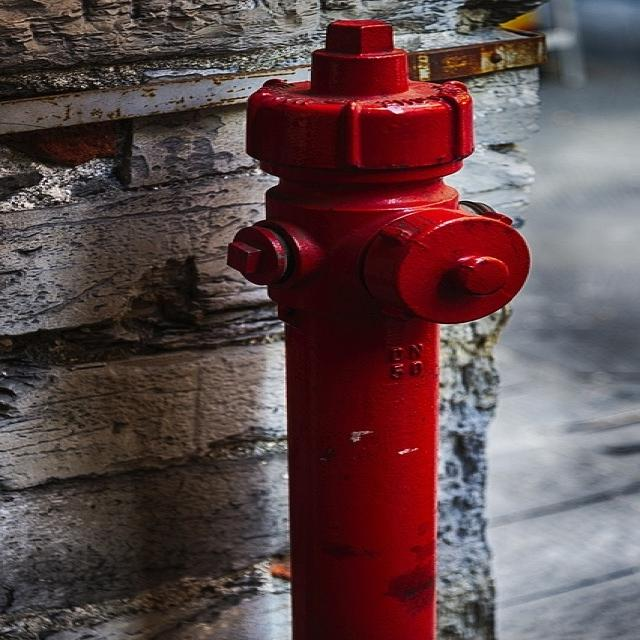fire_hydrant: (153, 25, 558, 640)
